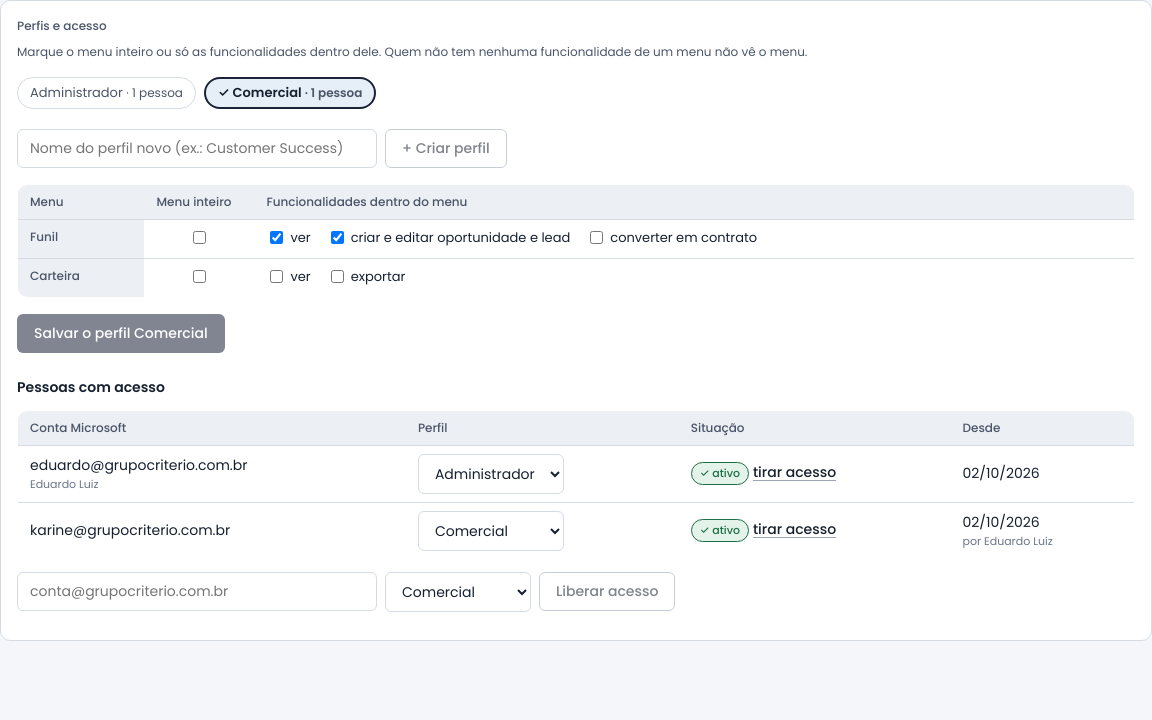
Test: Perfis e acesso › o menu inteiro marca todas as funcionalidades dele, e salvar manda a lista
This screenshot has width=1152, height=720.
Step 1. Click the checkbox named "Carteira: menu inteiro" → (200, 276), box [194,270,206,282]
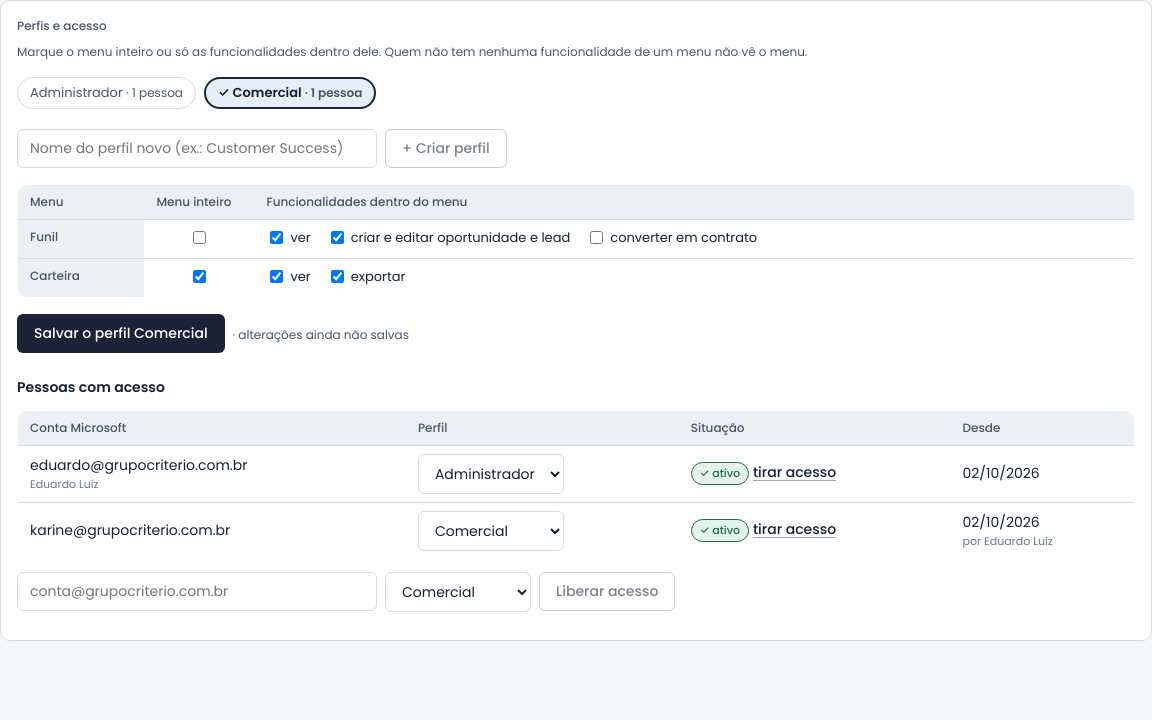
expect the text "· alterações ainda não salvas" is shown: met, box [233,326,409,344]
Step 2. Click the button "Salvar o perfil Comercial" → (121, 333), box [17,314,225,352]
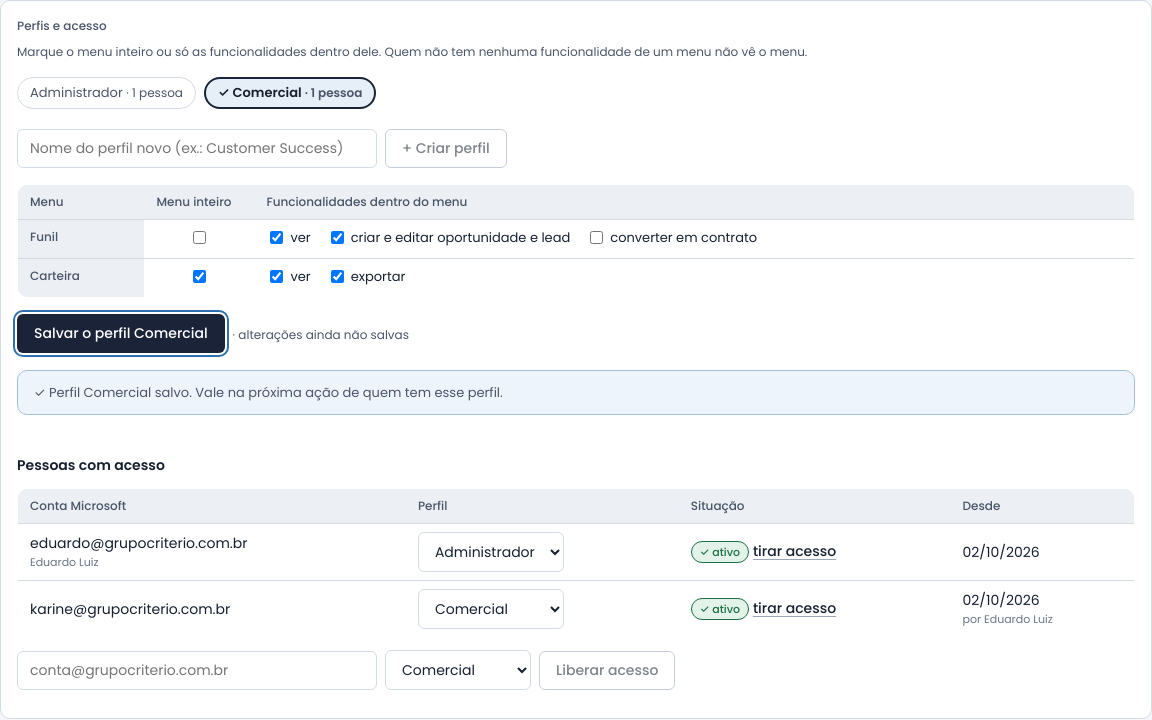
expect the message shows "Perfil Comercial salvo": met, box [49,382,503,402]
